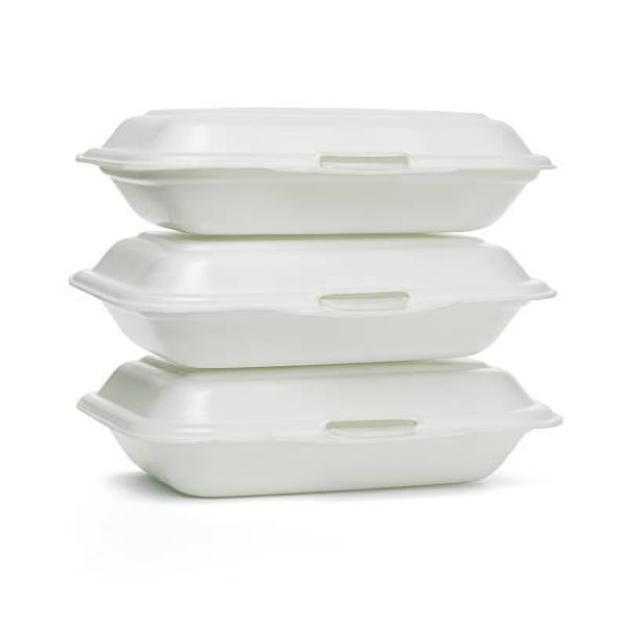styrofoam: (67, 104, 565, 497)
